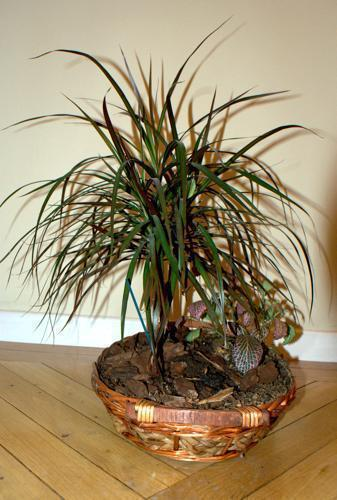Matera: (8, 24, 312, 463)
